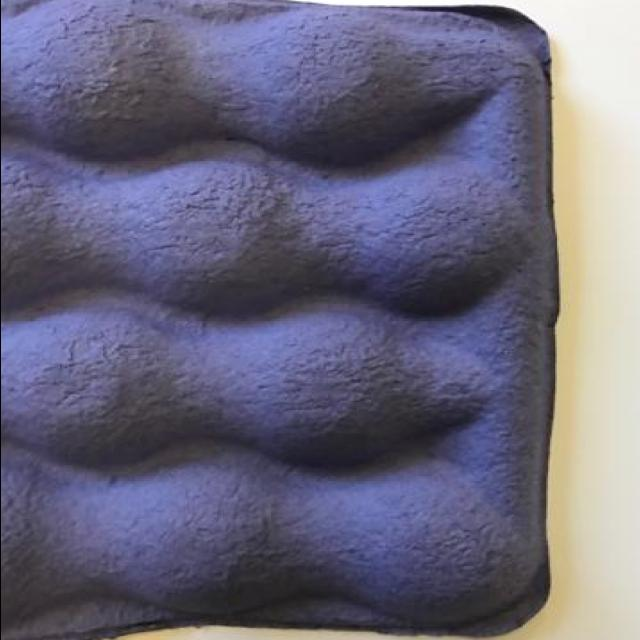kertas: (0, 0, 563, 640)
